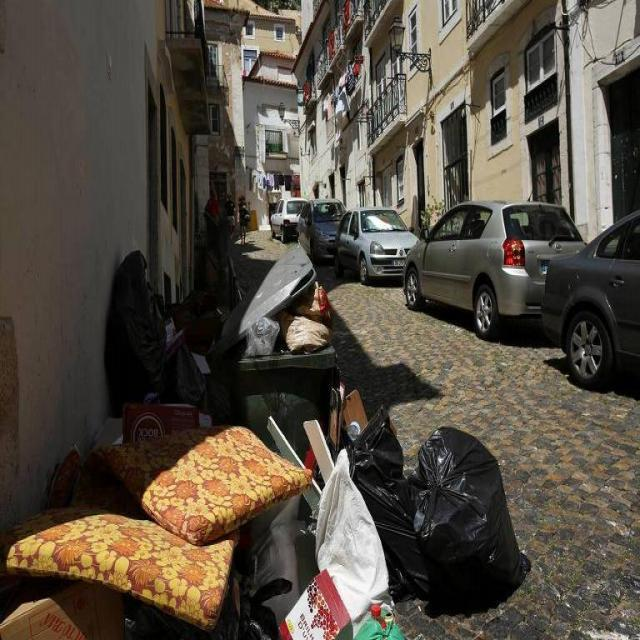garbage: (3, 320, 530, 640)
